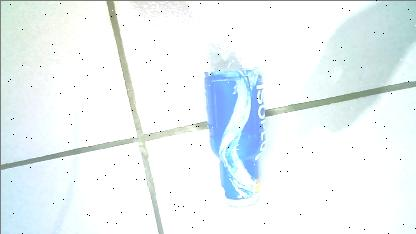Plastic Bottle: (204, 49, 264, 221)
